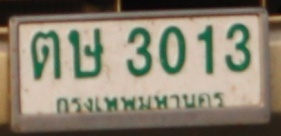txt16: (29, 29, 64, 82)
txt34: (66, 27, 105, 80)
